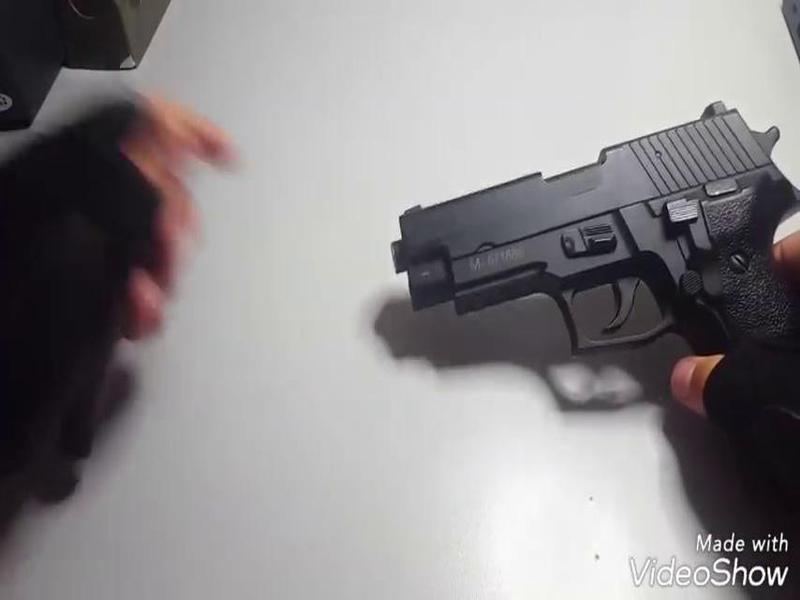Pistola: (379, 93, 800, 383)
